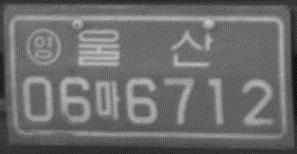0: (21, 74, 55, 123)
1: (205, 76, 225, 125)
2: (241, 77, 275, 126)
6: (59, 74, 92, 124), (125, 76, 157, 125)
7: (162, 74, 196, 125)
마: (94, 79, 120, 121)
영: (25, 26, 62, 66)
울산_D: (76, 27, 214, 70)
